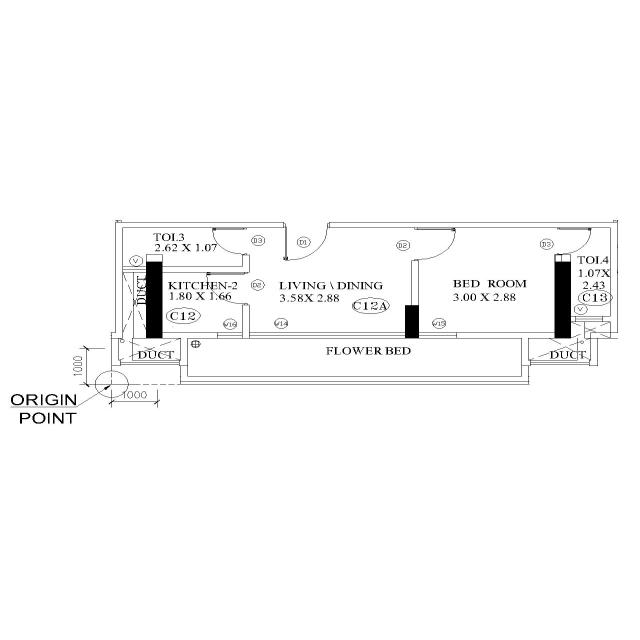Column: (553, 260, 573, 340), (145, 260, 164, 340), (404, 304, 421, 340)
Door: (282, 221, 332, 229), (410, 225, 420, 262), (241, 226, 251, 257), (553, 226, 563, 256)
Ventilator: (575, 315, 605, 323)
Window: (248, 332, 406, 341), (416, 331, 458, 339), (214, 331, 244, 340)
